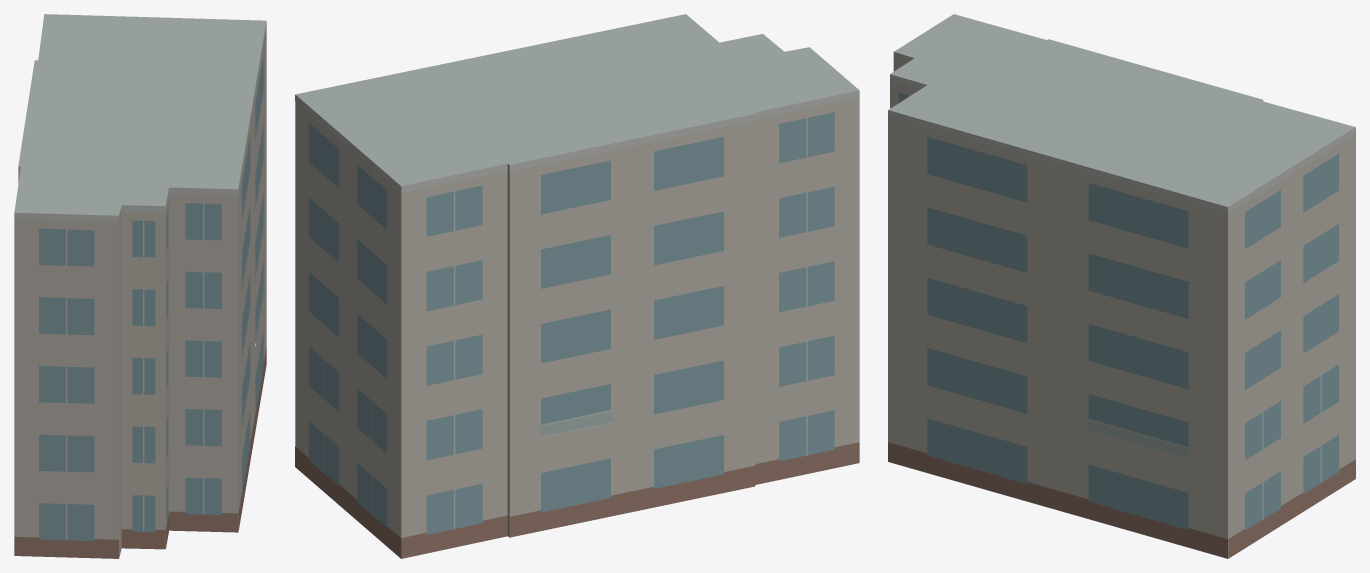
Rendered from survey-upis-32978878.glb.
3 views of the same model, side by side, from view 1: azimuth 30°, elevation 25°; view 2: azimuth 150°, elevation 25°; view 3: azimuth 270°, elevation 25° (orthographic). The views are drawn at different scales.
Parts seen in each view (by area): view 1: survey-upis-32978878.tmp; view 2: survey-upis-32978878.tmp; view 3: survey-upis-32978878.tmp.
Part boxes in pixels (left/top/right/bottom): survey-upis-32978878.tmp: left=14, top=14, right=266, bottom=558; survey-upis-32978878.tmp: left=295, top=14, right=859, bottom=558; survey-upis-32978878.tmp: left=888, top=14, right=1355, bottom=558.
Bounding box in the file's own units: 15.32 × 13 × 15.67.
